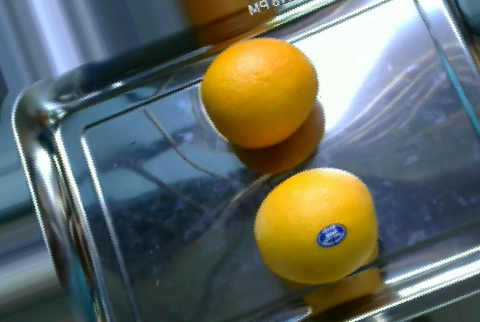Orange: (253, 166, 378, 284), (199, 37, 319, 147)
